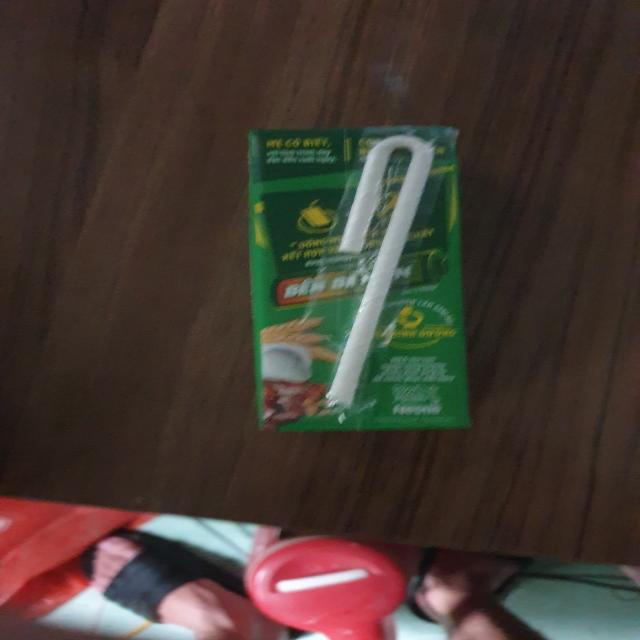Milo: (252, 122, 470, 436)
